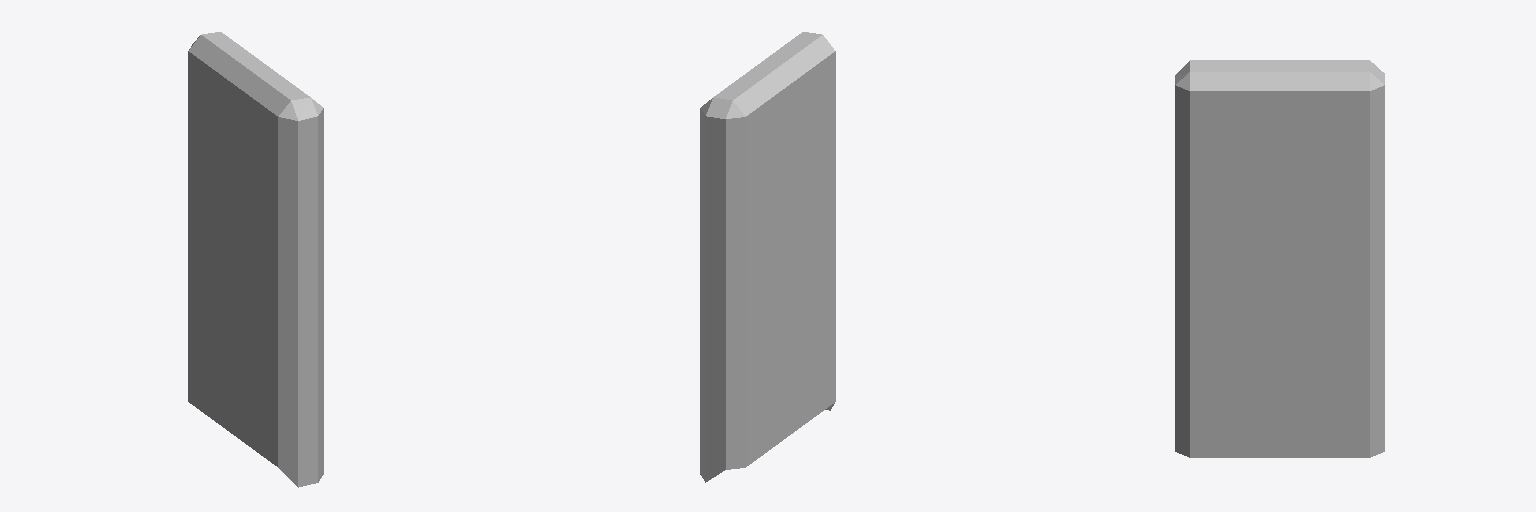
Rendered from cliff_door.obj.
3 views of the same model, side by side, from view 1: azimuth 30°, elevation 25°; view 2: azimuth 150°, elevation 25°; view 3: azimuth 270°, elevation 25° (orthographic).
Visible parts, largest first — view 1: Cube; view 2: Cube; view 3: Cube.
Boxes of the visible parts, <box> form: Cube: <box>188,32,323,487</box>; Cube: <box>700,32,835,482</box>; Cube: <box>1175,60,1384,457</box>.
Bounding box in the file's own units: 0.125 × 1 × 0.5.